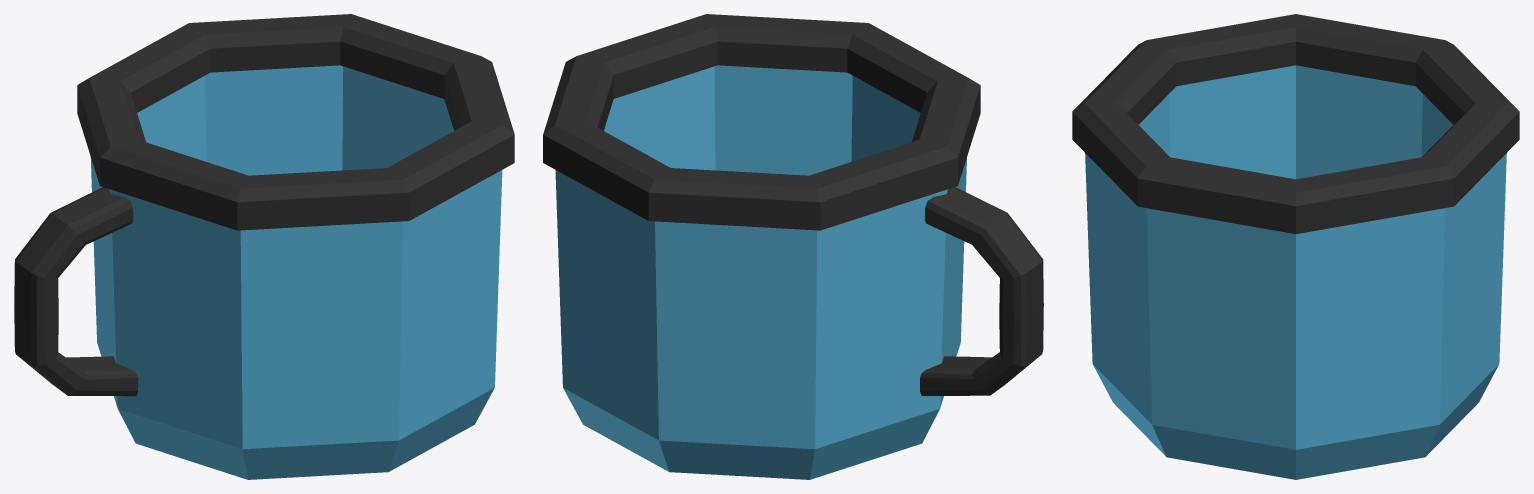
The model's file is Cup.fbx.
The picture shows the model from 3 angles, left to right: view 1: azimuth 30°, elevation 25°; view 2: azimuth 150°, elevation 25°; view 3: azimuth 270°, elevation 25°; orthographic projection.
Visible parts, largest first — view 1: Cup; view 2: Cup; view 3: Cup.
Part boxes in pixels (box(x1,y1,x2,y2)): Cup: box(14, 14, 514, 479); Cup: box(543, 14, 1043, 479); Cup: box(1072, 14, 1519, 479).
Size of the model in its own units: 59.96 by 38.98 by 50.11.
